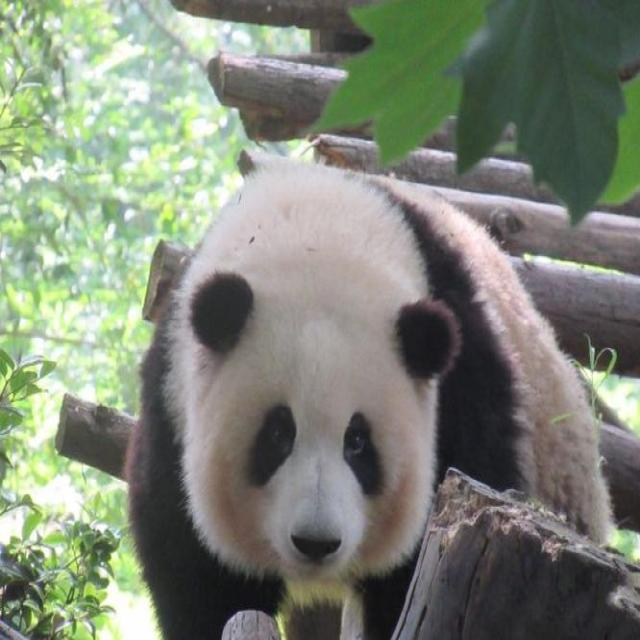panda: (104, 155, 627, 635)
